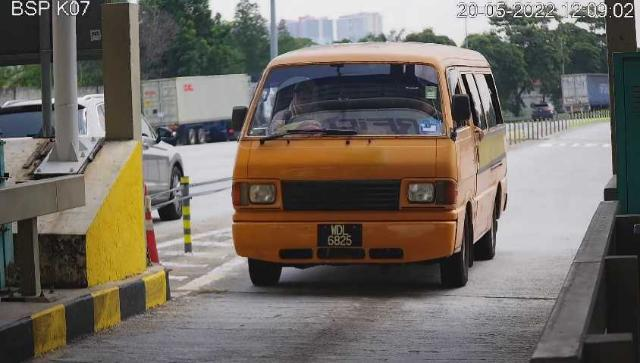License_Plate: (316, 222, 366, 252)
van: (233, 44, 508, 291)
